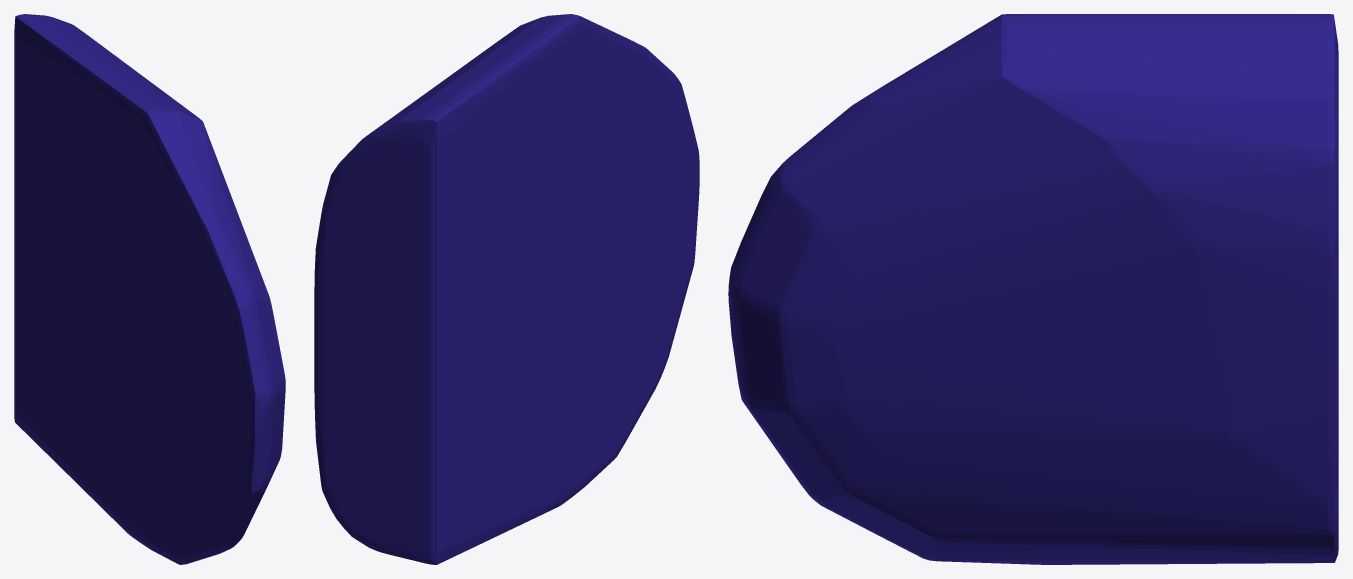
Rendered from left_f_proximal_part_18.obj.
3 renders of one model, left to right at view 1: azimuth 30°, elevation 25°; view 2: azimuth 150°, elevation 25°; view 3: azimuth 270°, elevation 25°, orthographic. The views are drawn at different scales.
Size of the model in its own units: 4.04 by 14.74 by 14.9.
